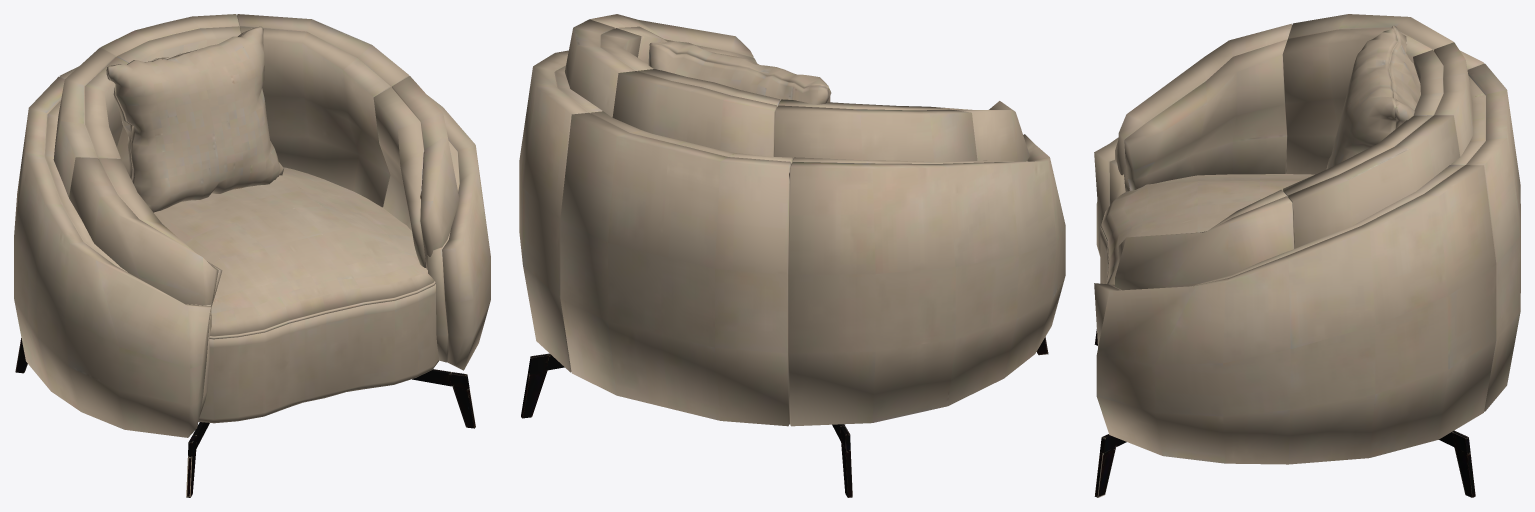
The model's file is armchairQubba.glb.
3 renders of one model, left to right at view 1: azimuth 30°, elevation 25°; view 2: azimuth 150°, elevation 25°; view 3: azimuth 270°, elevation 25°, orthographic. The views are drawn at different scales.
Parts seen in each view (by area): view 1: Armcahir; view 2: Armcahir; view 3: Armcahir.
Part boxes in pixels (<box>): Armcahir: <box>14,14,490,497</box>; Armcahir: <box>519,14,1065,497</box>; Armcahir: <box>1094,14,1520,497</box>.
Bounding box in the file's own units: 1.17 × 0.8556 × 0.9434.
1 material, 1 textured.
